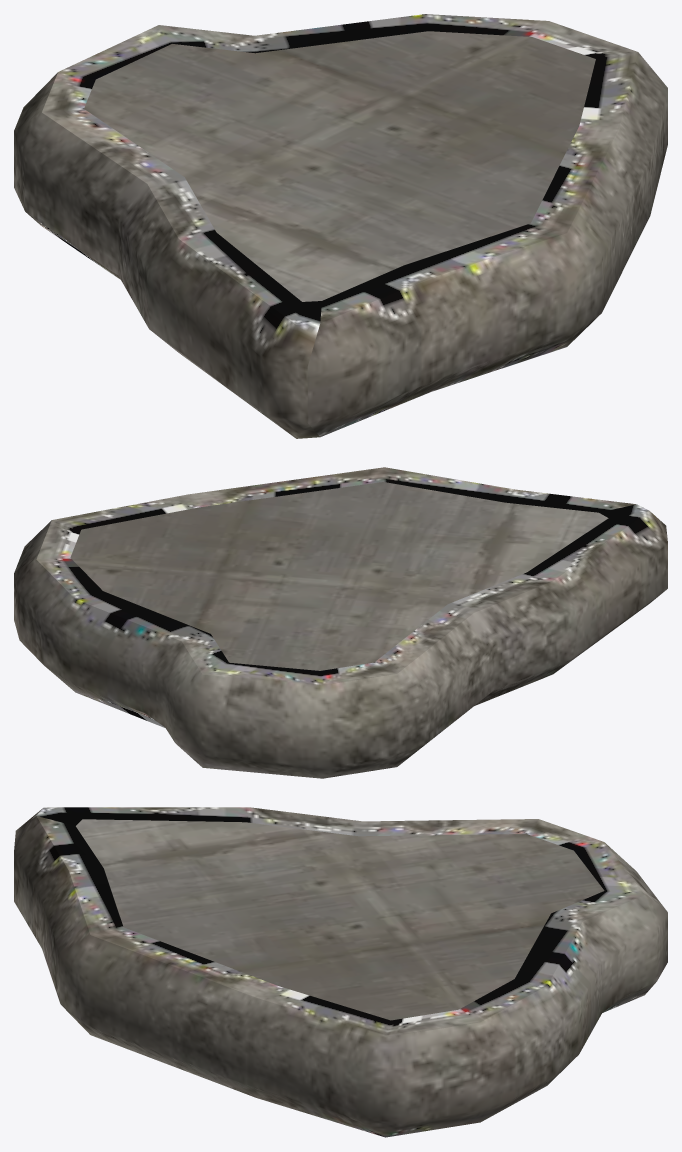
Rendered from concrete_debris_b.glb.
3 views of the same model, one above another, from view 1: azimuth 30°, elevation 25°; view 2: azimuth 150°, elevation 25°; view 3: azimuth 270°, elevation 25° (orthographic). The views are drawn at different scales.
Visible parts, largest first — view 1: concrete_debris_B; view 2: concrete_debris_B; view 3: concrete_debris_B.
Boxes of the visible parts, left/top/right/bottom form: concrete_debris_B: left=14, top=14, right=667, bottom=438; concrete_debris_B: left=14, top=467, right=667, bottom=778; concrete_debris_B: left=14, top=807, right=667, bottom=1137.
Size of the model in its own units: 1.37 by 0.2565 by 1.51.
2 materials, 2 textured.
